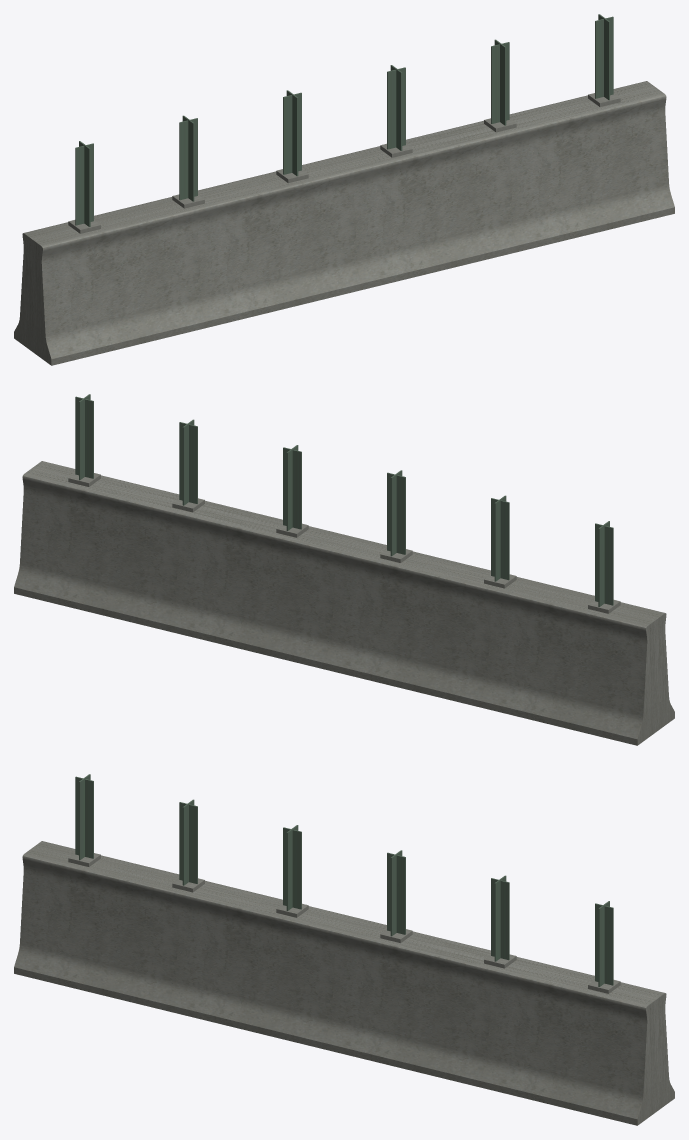
The model's file is SM_Fence1-8.glb.
3 views of the same model, one above another, from view 1: azimuth 30°, elevation 25°; view 2: azimuth 150°, elevation 25°; view 3: azimuth 330°, elevation 25° (orthographic).
Parts seen in each view (by area): view 1: SM_Fence1-8; view 2: SM_Fence1-8; view 3: SM_Fence1-8.
Boxes of the visible parts, box(x1,y1,x2,y2) form: SM_Fence1-8: box(14, 14, 674, 365); SM_Fence1-8: box(14, 394, 674, 745); SM_Fence1-8: box(14, 774, 674, 1125).
Bounding box in the file's own units: 5 × 1.49 × 0.5208.
2 materials, 2 textured.
